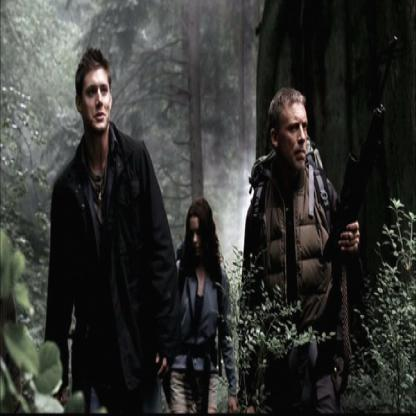Gun: (322, 30, 402, 270)
